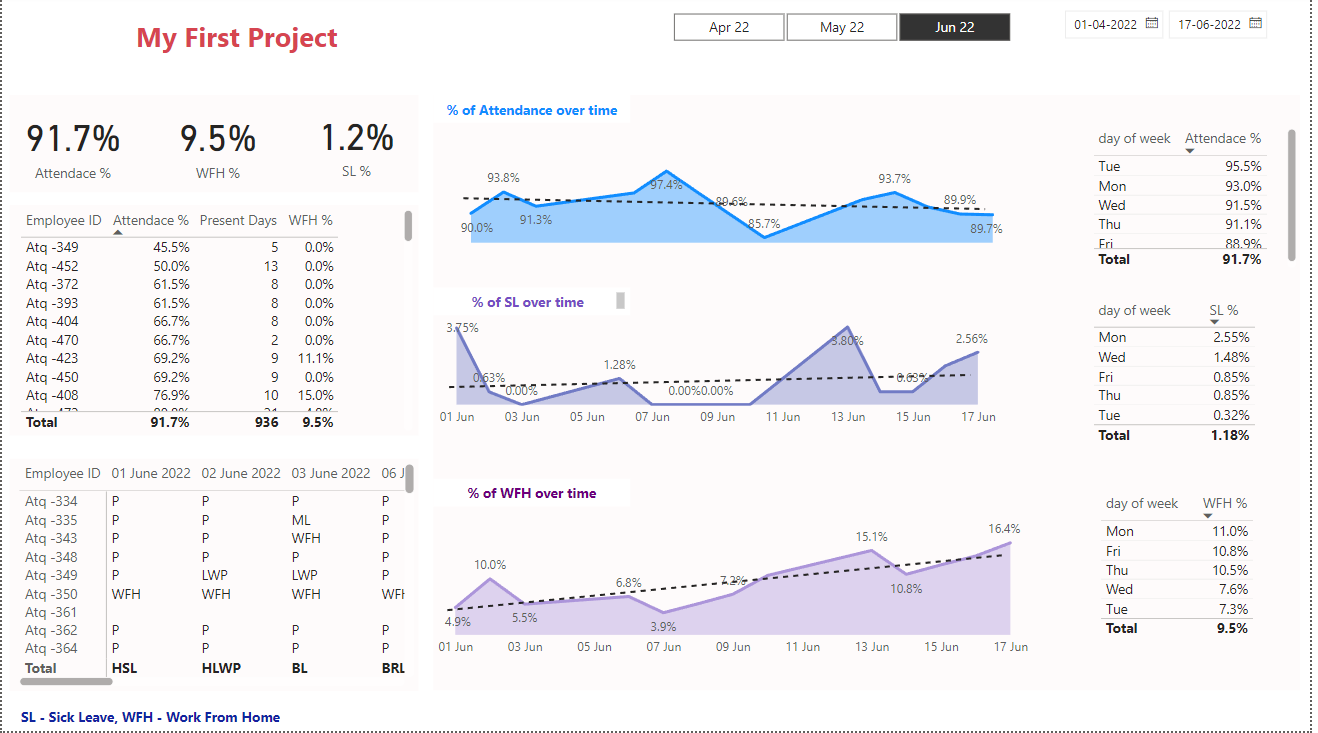

What the dashboard file says about the page in this screenshot:
{"tool":"powerbi","page":{"name":"Presence Insights","canvas":[1280,720],"ordinal":0},"visuals":[{"type":"textbox","box":[7.8,205.6,399.9,225.5],"z":0},{"type":"textbox","box":[7.8,453.3,399.8,227.6],"z":1000},{"type":"textbox","box":[422.3,97.9,848.1,582.3],"z":2000},{"type":"textbox","box":[7.8,98,399.9,95.4],"z":3000},{"type":"tableEx","fields":{"Values":["Final Data.Employee ID","Measures (2).Attendace %","Measures (2).Present Days","Measures (2).WFH %"]},"box":[12.6,205.2,394.9,225.7],"z":4000},{"type":"slicer","fields":{"Values":["Final Data.Date"]},"box":[1027.3,5.2,252.7,46.3],"z":5000},{"type":"slicer","fields":{"Values":["Final Data.MMM YY"]},"box":[630.4,10.5,379.5,35.8],"z":6000},{"type":"areaChart","fields":{"Category":["Final Data.MMM YY","Final Data.Date"],"Y":["Measures (2).WFH %"]},"box":[420.7,502.3,589,153.5],"z":7000},{"type":"areaChart","fields":{"Category":["Final Data.WeekNo","Final Data.Date"],"Y":["Measures (2).Attendace %"]},"box":[444.1,144.9,540.4,103.2],"z":8000},{"type":"card","fields":{"Values":["Measures (2).Attendace %"]},"box":[7.8,98,124,96.3],"z":9000},{"type":"card","fields":{"Values":["Measures (2).WFH %"]},"box":[141.4,98,138.8,96.3],"z":10000},{"type":"areaChart","fields":{"Category":["Final Data.MMM YY","Final Data.Date"],"Y":["Measures (2).SL %"]},"box":[422.5,307.1,556,124],"z":11000},{"type":"card","fields":{"Values":["Measures (2).SL %"]},"box":[286.3,97.2,121.4,96.3],"z":13000},{"type":"textbox","box":[70.3,0,320.1,71.1],"z":14000},{"type":"textbox","box":[422.4,98.2,192.5,27.5],"z":15000},{"type":"textbox","box":[422.5,286.3,192.6,26.9],"z":16000},{"type":"textbox","box":[422.1,473.7,192.6,27.2],"z":17000},{"type":"pivotTable","fields":{"Rows":["Final Data.Employee ID"],"Columns":["Final Data.Date"],"Values":["Min(Final Data.Value)"]},"box":[11.7,453.3,395.9,227.6],"z":18000},{"type":"textbox","box":[13.6,691.6,289.8,28.2],"z":19000},{"type":"tableEx","fields":{"Values":["Final Data.day of week","Measures (2).Attendace %"]},"box":[1060.9,125.8,209.9,145.7],"z":20000},{"type":"tableEx","fields":{"Values":["Final Data.day of week","Measures (2).SL %"]},"box":[1060.9,294.1,191.7,167.4],"z":21000},{"type":"tableEx","fields":{"Values":["Final Data.day of week","Measures (2).WFH %"]},"box":[1068.7,483.2,170,167.4],"z":22000}]}

Visuals, with their boxes in screenshot pixels (x1, y1, x2, y2), scaled from the page's 1280x720 canvas onto the 1318x733 screenshot:
textbox: l=8, t=209, r=420, b=439
textbox: l=8, t=461, r=420, b=693
textbox: l=435, t=100, r=1308, b=692
textbox: l=8, t=100, r=420, b=197
tableEx - Final Data.Employee ID x Measures (2).Attendace %: l=13, t=209, r=420, b=439
slicer - Final Data.Date: l=1058, t=5, r=1317, b=52
slicer - Final Data.MMM YY: l=649, t=11, r=1040, b=47
areaChart - Final Data.MMM YY x Final Data.Date: l=433, t=511, r=1040, b=668
areaChart - Final Data.WeekNo x Final Data.Date: l=457, t=148, r=1014, b=253
card - Measures (2).Attendace %: l=8, t=100, r=136, b=198
card - Measures (2).WFH %: l=146, t=100, r=289, b=198
areaChart - Final Data.MMM YY x Final Data.Date: l=435, t=313, r=1008, b=439
card - Measures (2).SL %: l=295, t=99, r=420, b=197
textbox: l=72, t=0, r=402, b=72
textbox: l=435, t=100, r=633, b=128
textbox: l=435, t=291, r=633, b=319
textbox: l=435, t=482, r=633, b=510
pivotTable - Final Data.Employee ID x Final Data.Date: l=12, t=461, r=420, b=693
textbox: l=14, t=704, r=312, b=732
tableEx - Final Data.day of week x Measures (2).Attendace %: l=1092, t=128, r=1309, b=276
tableEx - Final Data.day of week x Measures (2).SL %: l=1092, t=299, r=1290, b=470
tableEx - Final Data.day of week x Measures (2).WFH %: l=1100, t=492, r=1275, b=662
